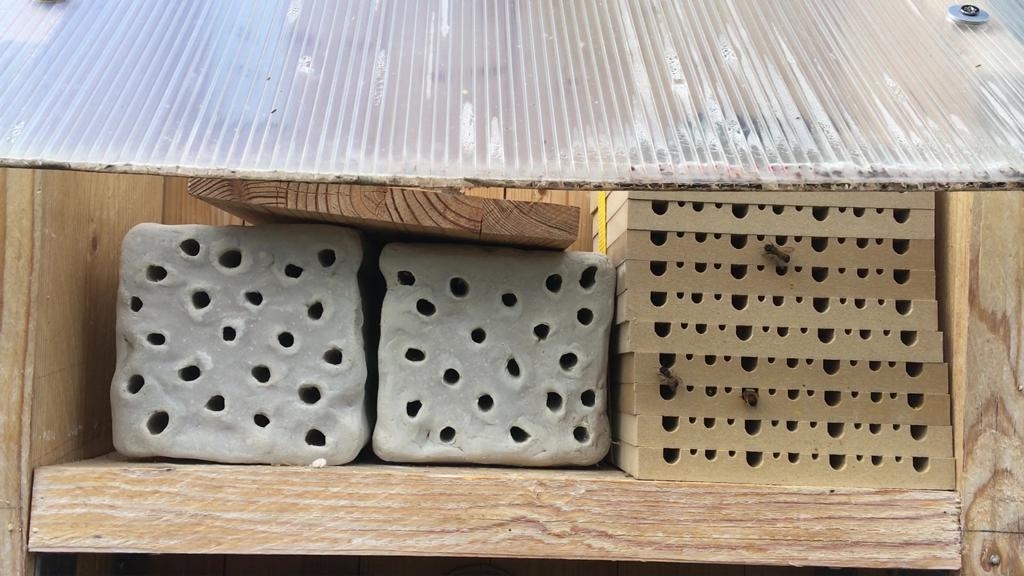bee: (738, 382, 765, 412)
